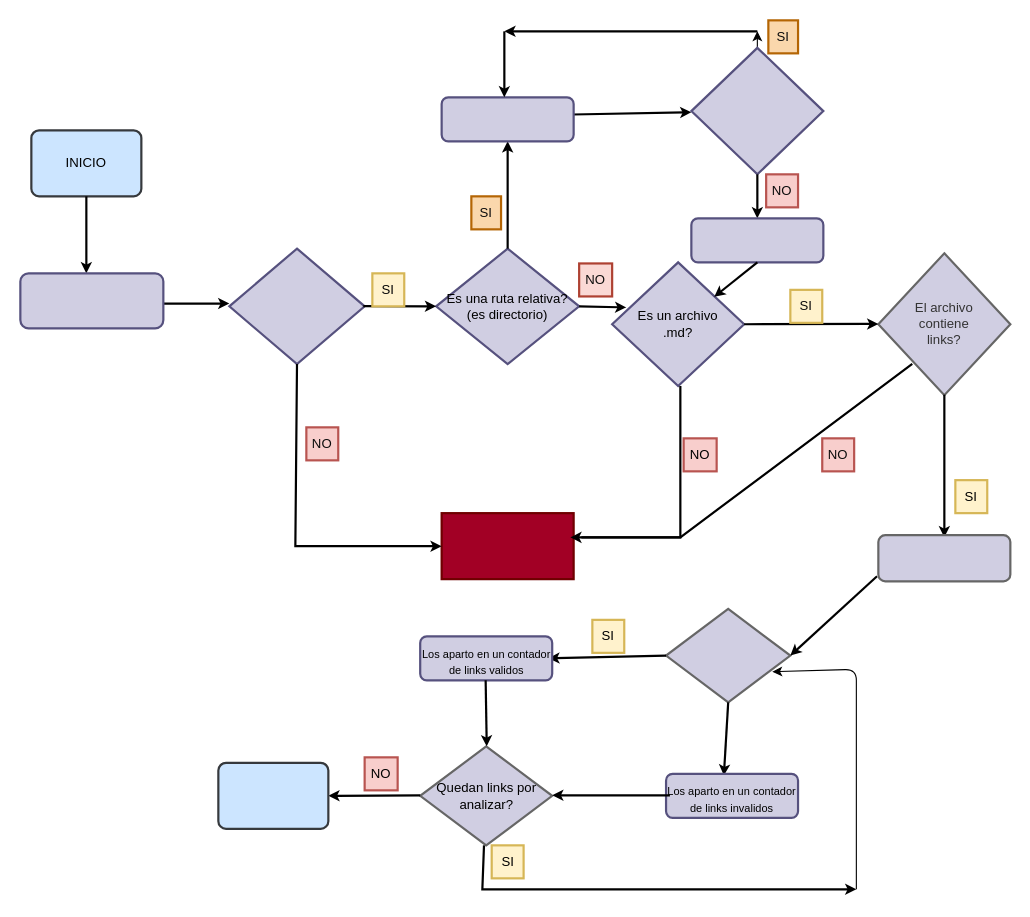
The diagram is 1030 pixels wide and 917 high, and some of its shapes have lost their labels. Here are the shapes that lost their labels. From the top down, the centre of each, then its label:
the point at 507,119: Lectura del directorio y se extraen archivos
the point at 757,110: Existen mas carpetas?
the point at 757,240: Juntamos los archivos extraidos
the point at 91,300: Recibe la funcion mdLinks(path, options)
the point at 296,306: El path existe?
the point at 507,546: mensaje de error (FIN)
the point at 944,558: Traer los links
the point at 727,655: Los links son válidos?
the point at 273,795: Fin
